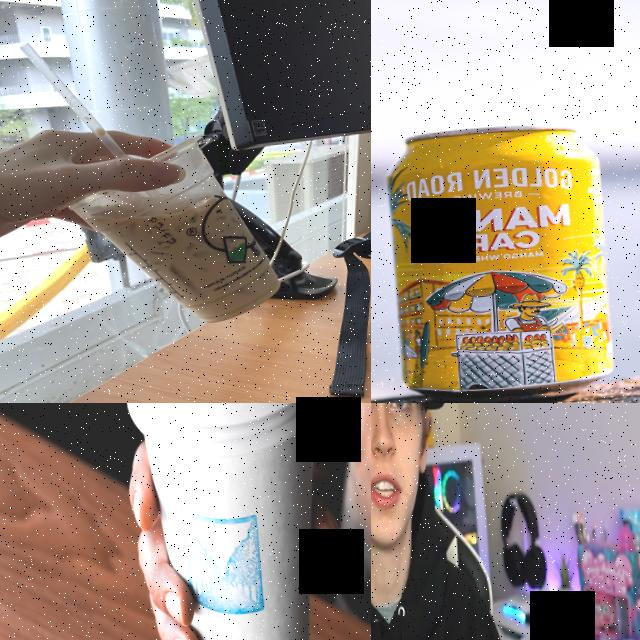can: (384, 117, 616, 403)
cup: (118, 403, 345, 640), (56, 129, 284, 334)
